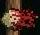eye: (0, 1, 40, 35)
